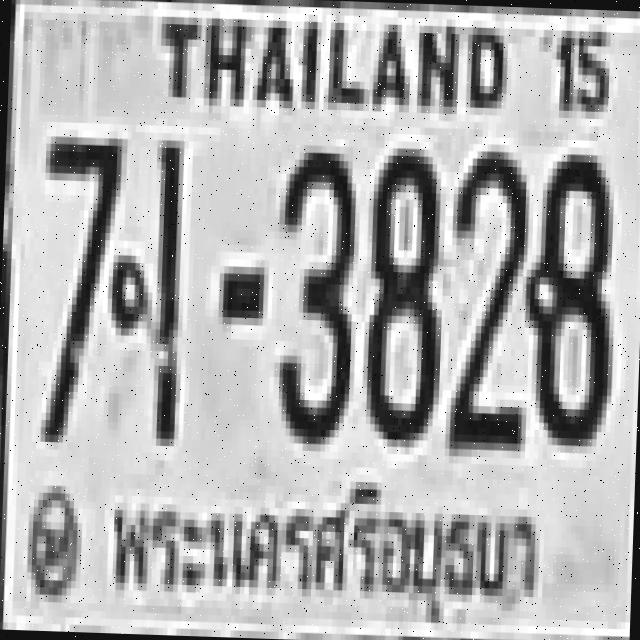2: (445, 147, 526, 447)
3: (269, 144, 355, 437)
7: (34, 128, 120, 436), (36, 128, 120, 364)
8: (520, 145, 615, 439), (361, 140, 442, 440)
Ayutthaya: (102, 471, 548, 624)
